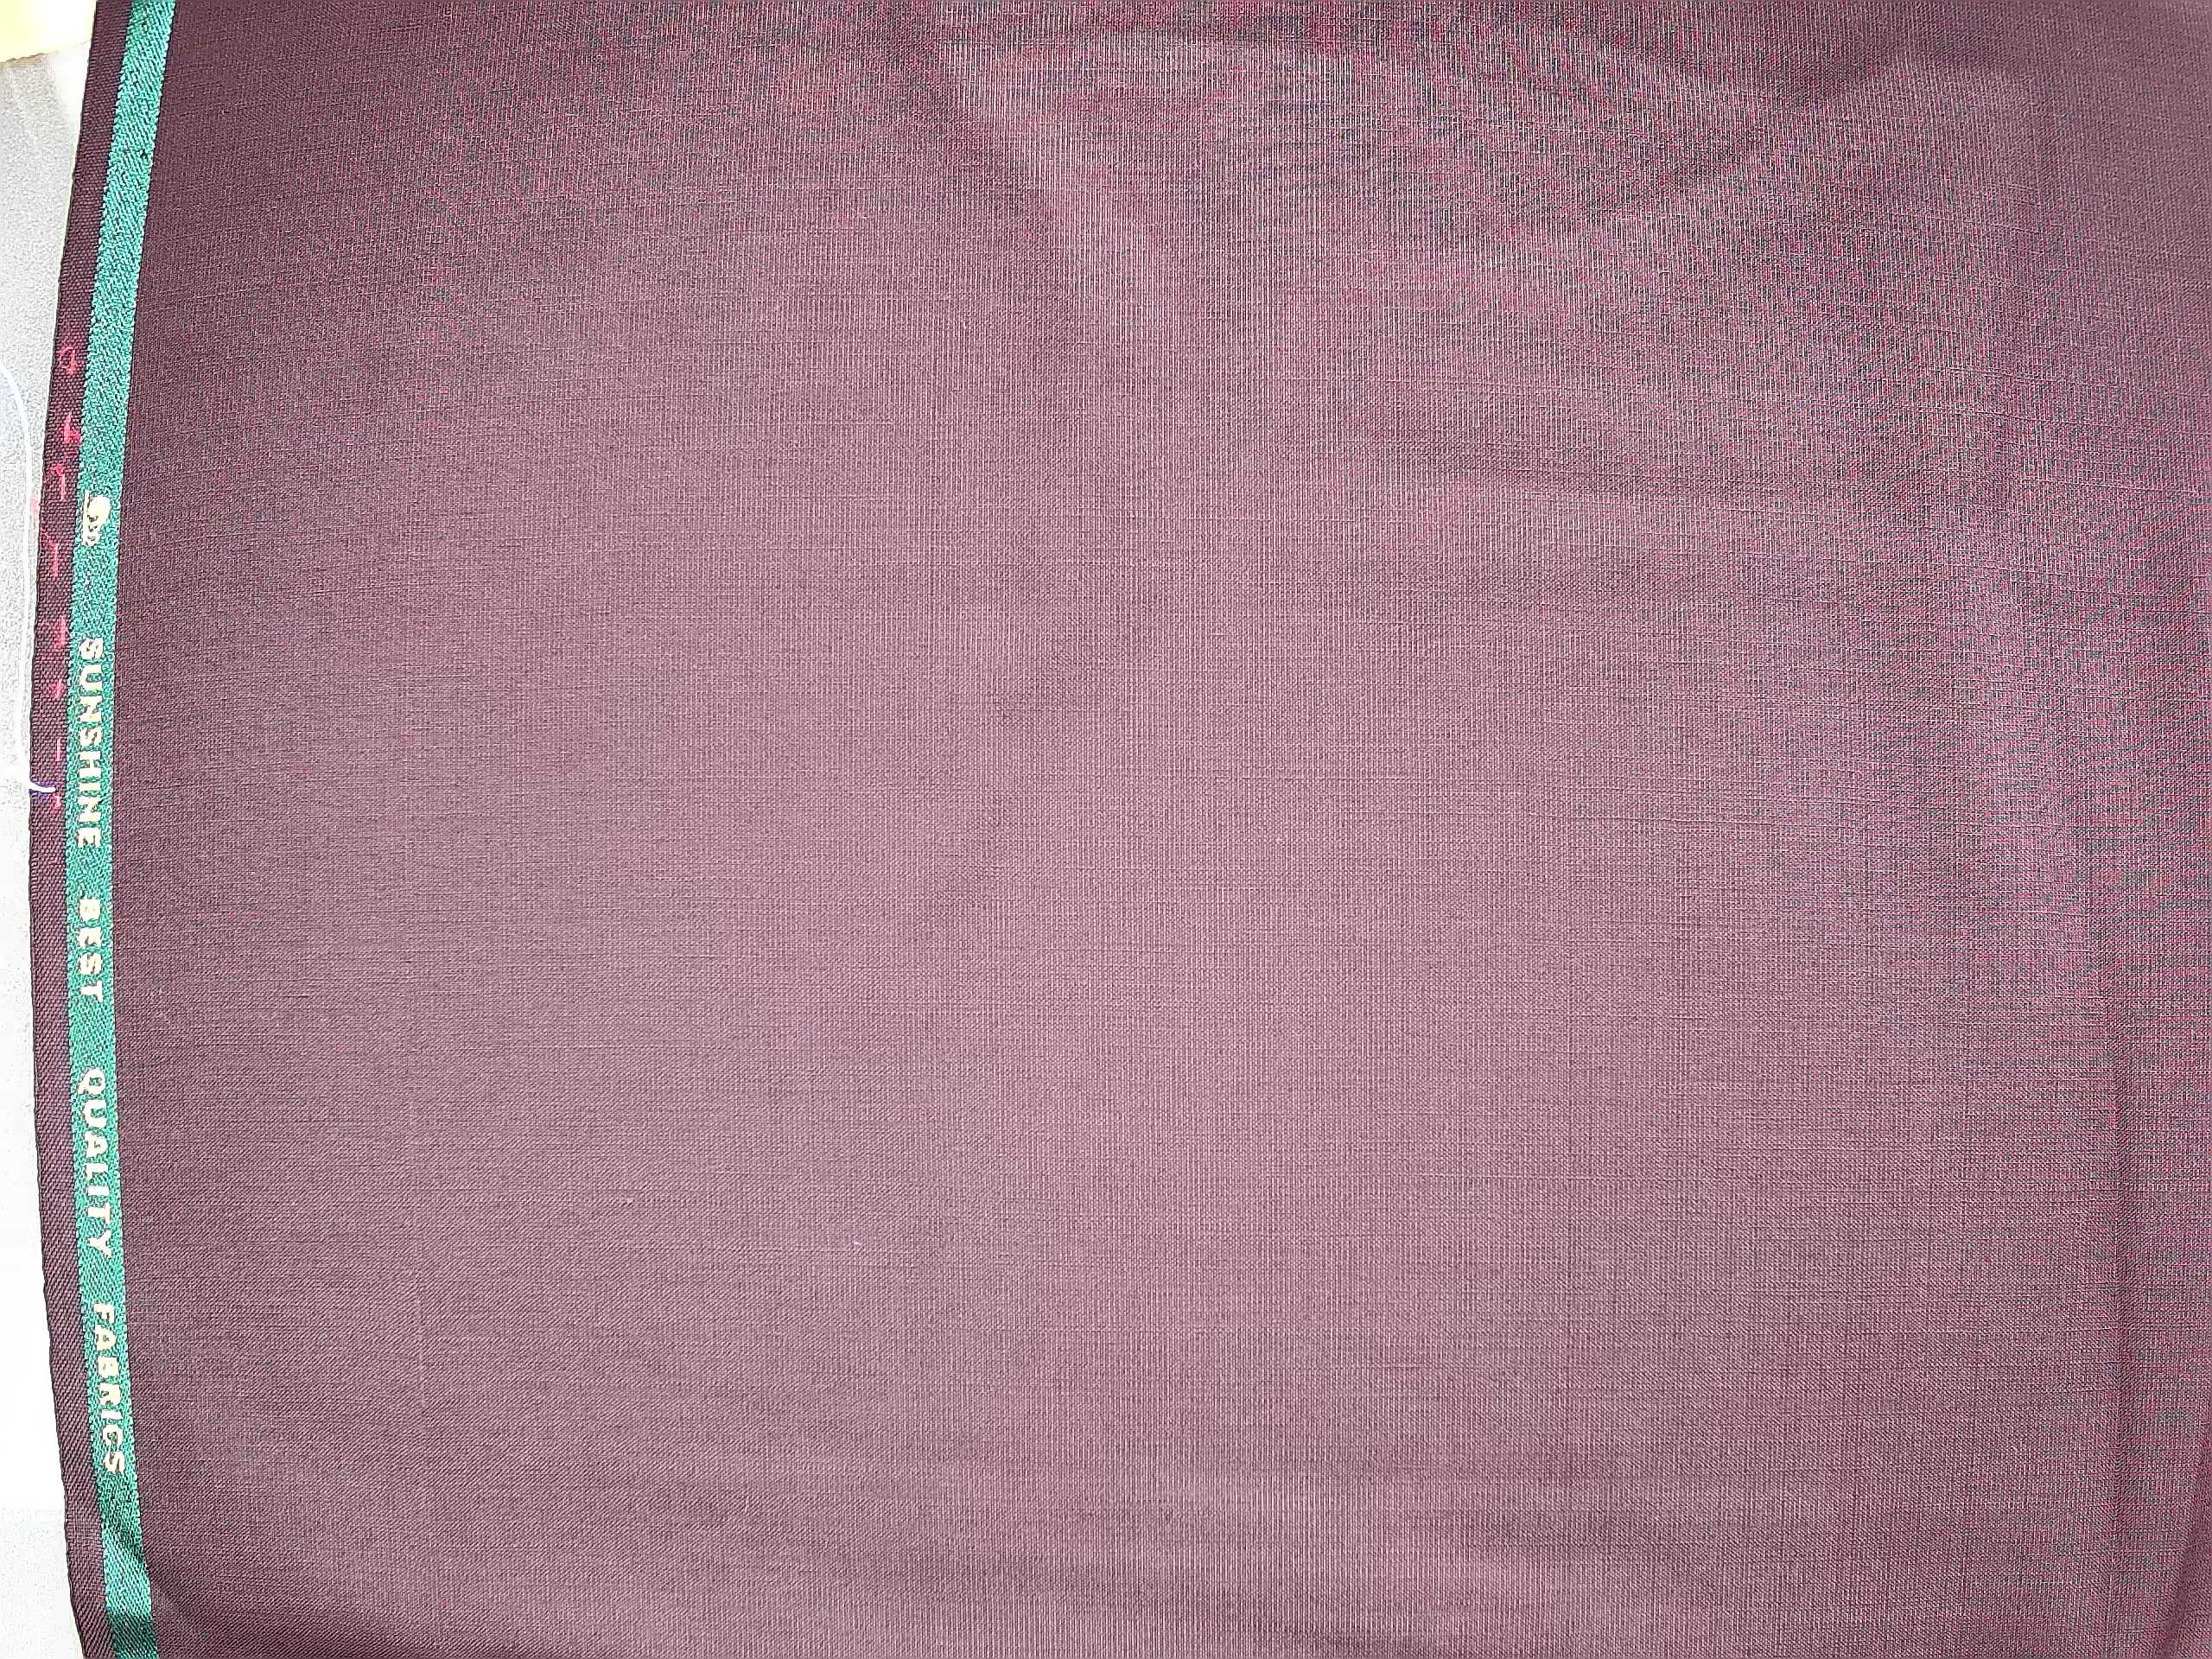hanging-warp: (408, 1122, 435, 1429)
